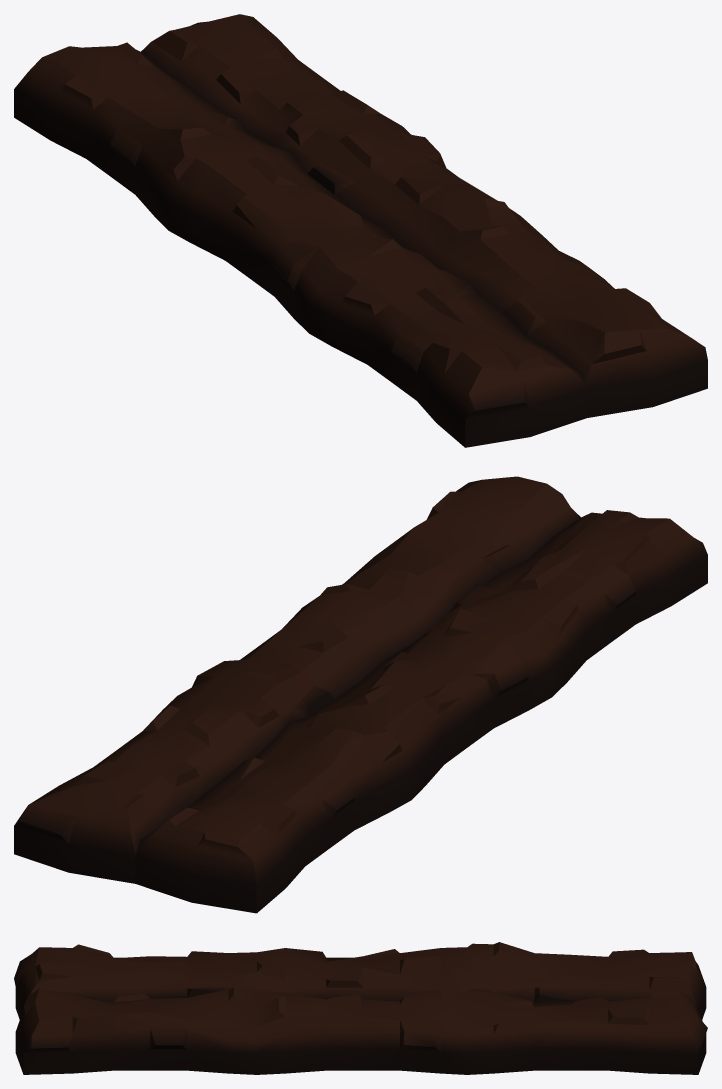
Rendered from Crop9x2.fbx.
3 renders of one model, top to bottom at view 1: azimuth 30°, elevation 25°; view 2: azimuth 150°, elevation 25°; view 3: azimuth 270°, elevation 25°, orthographic. The views are drawn at different scales.
Visible parts, largest first — view 1: Crop9x2; view 2: Crop9x2; view 3: Crop9x2.
Part boxes in pixels (<box>): Crop9x2: <box>14,14,707,447</box>; Crop9x2: <box>14,476,707,913</box>; Crop9x2: <box>14,942,707,1074</box>.
Size of the model in its own units: 400 by 121 by 1309.
